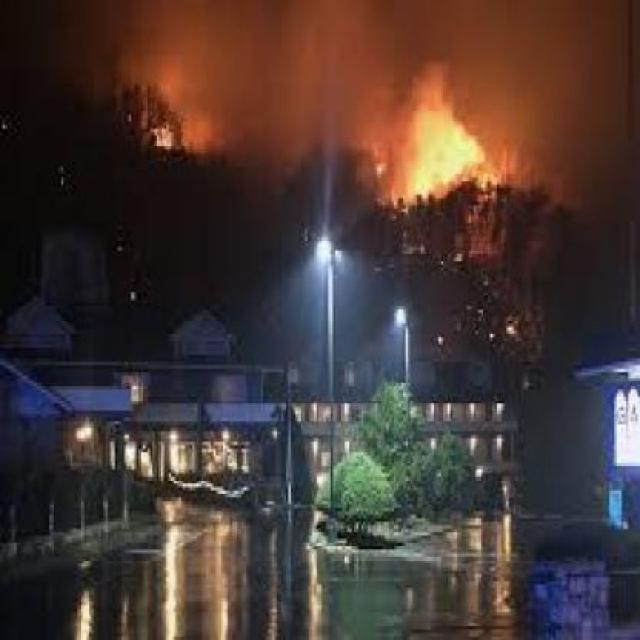Fire: (364, 63, 518, 233)
